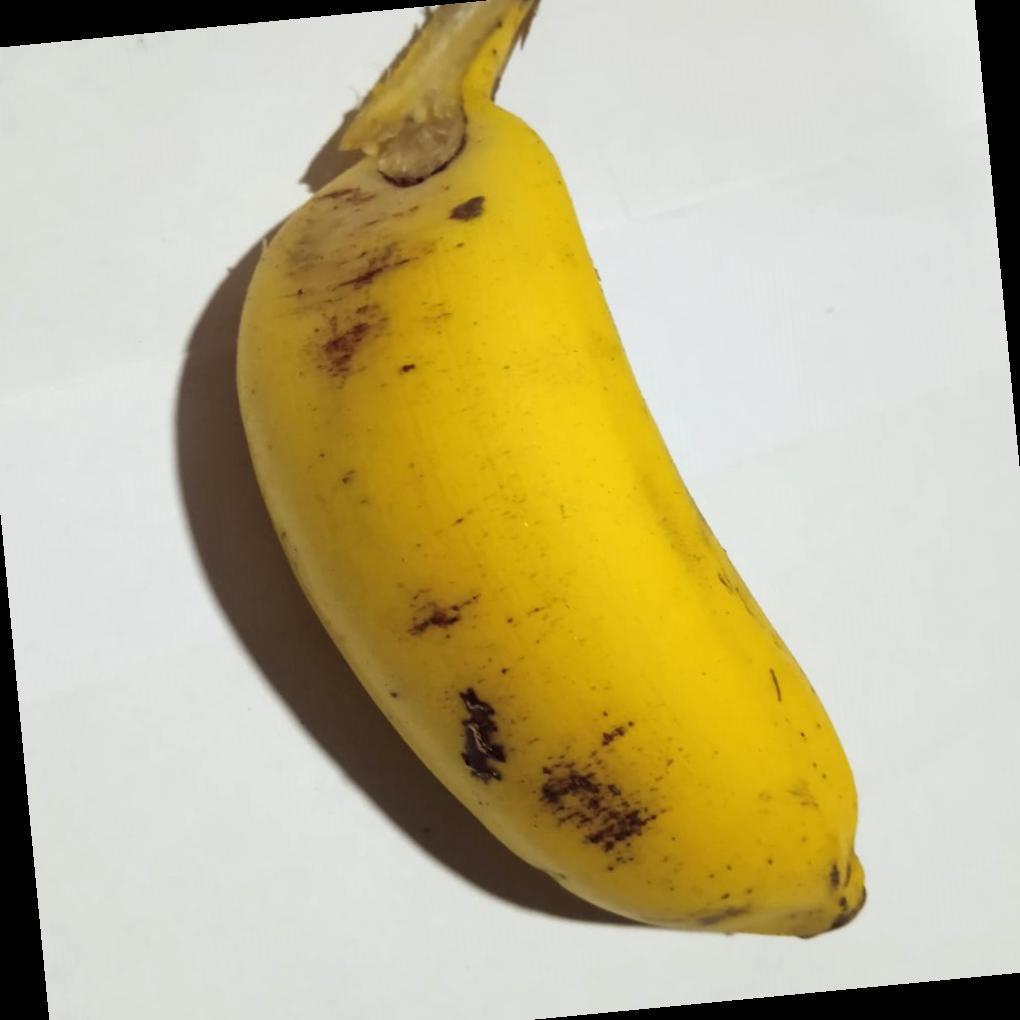Banana Ripe: (212, 1, 984, 980)
